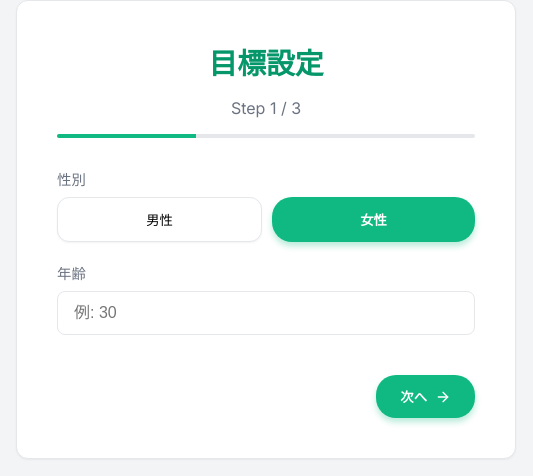
DietPlanWizard › advances to step 3 and shows save button
Step 1. Click the button "次へ" → (426, 396), box 376,375 -> 475,418
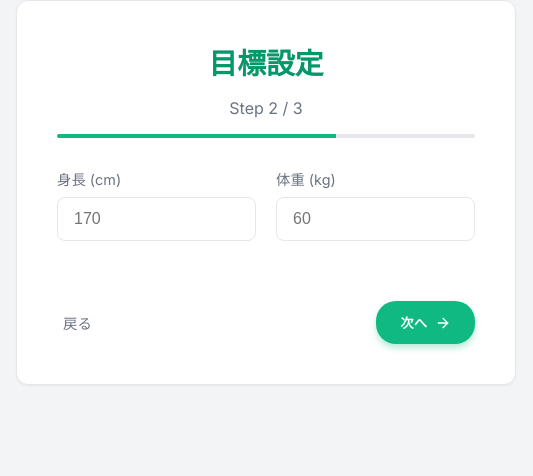
Step 2. Click the button "次へ" → (426, 322), box 376,301 -> 475,344
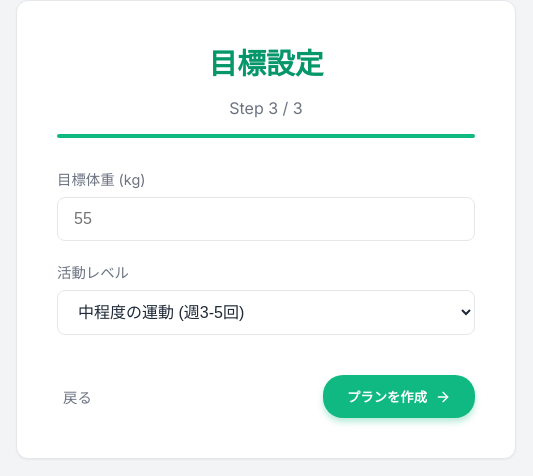
Result: the text "Step 3 / 3" is shown at 229,98 -> 303,118
Result: the button "プランを作成" is shown at 323,375 -> 475,418
Result: the number field with placeholder "55" is shown at 57,197 -> 475,241
